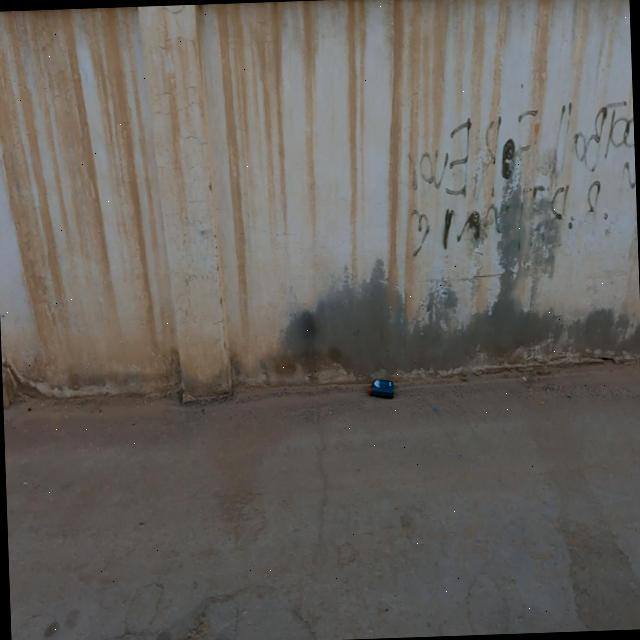Graffiti: (402, 100, 638, 260)
